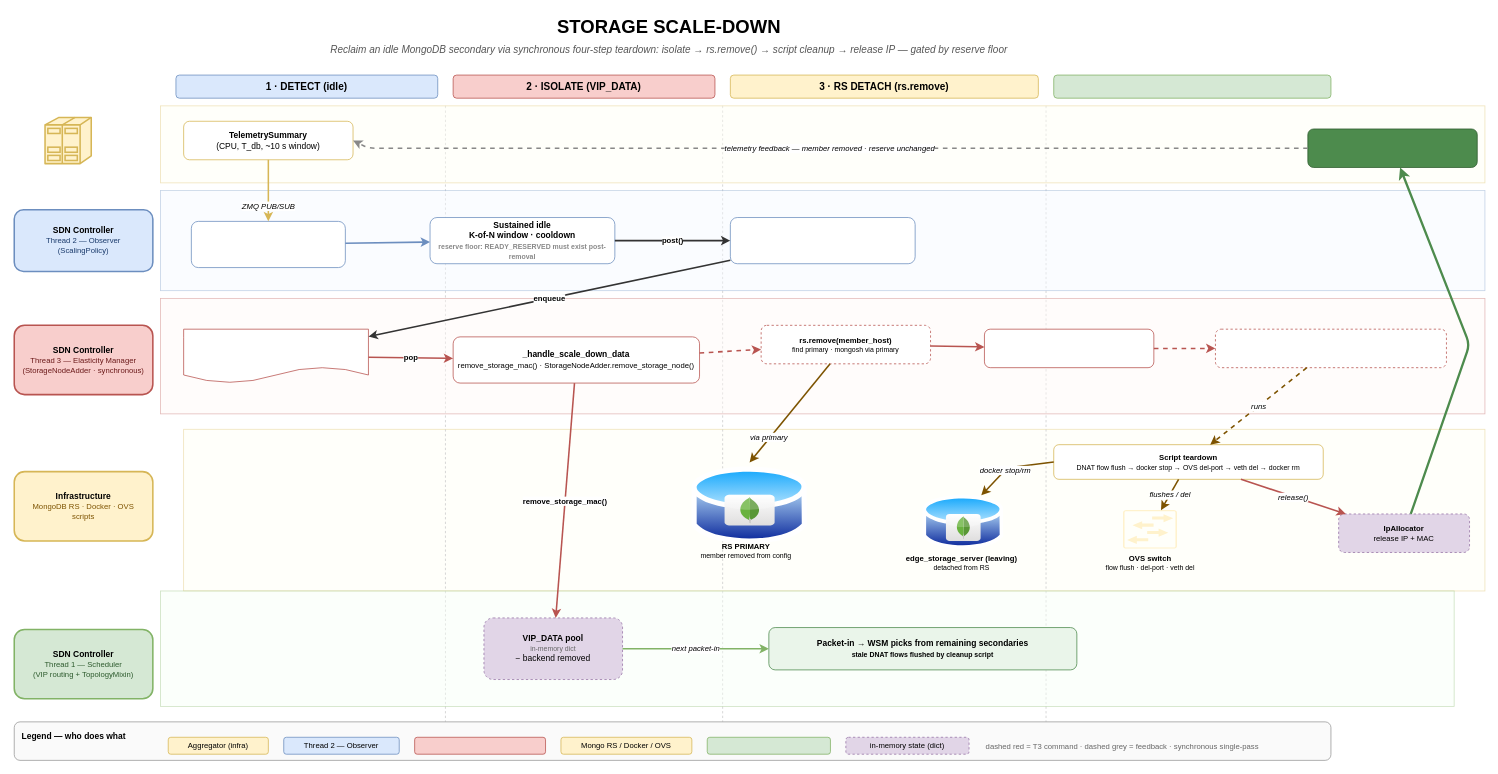
Image size: 1498x774. Some labels were removed from this diagram. The centre of each missing label's shape, as x and y in pixels:
"4 · CLEANUP (script + IP release)" belongs at point (1192, 86).
"_wait_rs_member_removed poll rs.status() · ≤10× · 3 s delay" belongs at point (1069, 348).
"Aggregator container · per LAN" belongs at point (68, 140).
"AND-gate idle CPU < τ & T_db < τ T_db > ceiling → window skipped" belongs at point (268, 244).
"CAPACITY RECLAIMED RS consistent · no read dropped" belongs at point (1392, 147).
"PriorityQueue ScaleDownDataAlert · priority 8" belongs at point (275, 355).
"remove_network_storage_node.sh --skip-rs (rs.remove already done)" belongs at point (1330, 348).
"ScaleDownDataAlert (mac, ip, lan, rs_name, primary, container_name, port)" belongs at point (822, 240).
"Thread 1 — Scheduler" belongs at point (768, 745).
"Thread 3 — Elasticity Mgr" belongs at point (480, 745).
